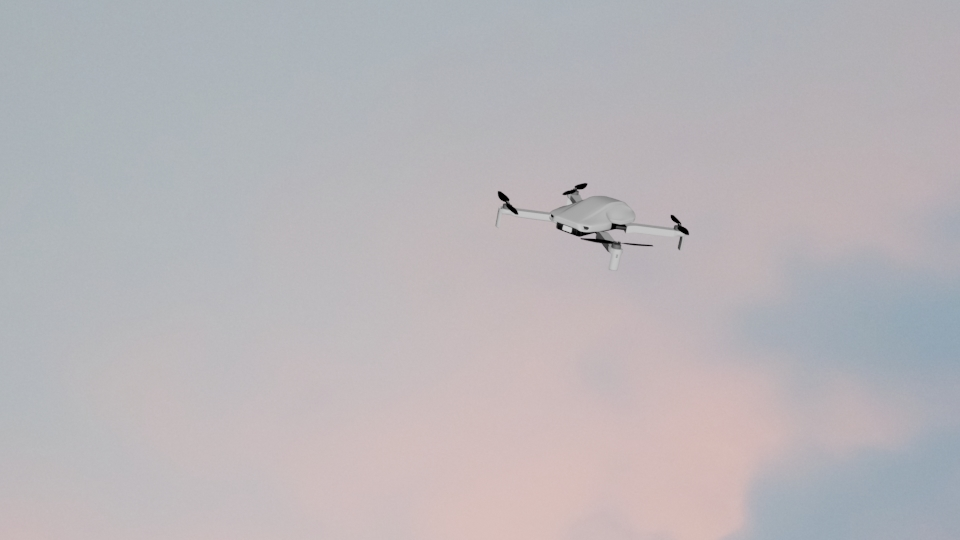drone: (495, 181, 689, 268)
